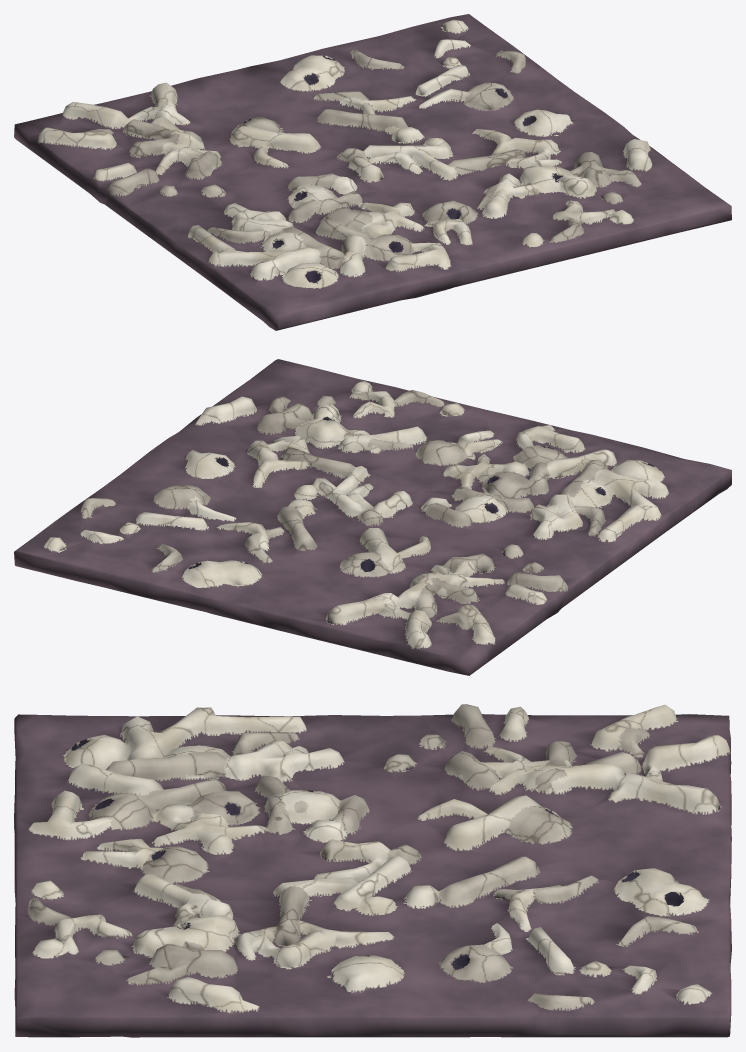
Rendered from suelo_hueso.fbx.
3 renders of one model, top to bottom at view 1: azimuth 30°, elevation 25°; view 2: azimuth 150°, elevation 25°; view 3: azimuth 270°, elevation 25°, orthographic. The views are drawn at different scales.
Visible parts, largest first — view 1: placa; view 2: placa; view 3: placa.
Boxes of the visible parts, x1,y1,x2,y2 form: placa: [14, 14, 731, 330]; placa: [14, 359, 731, 675]; placa: [14, 704, 731, 1037].
Bounding box in the file's own units: 7.99 × 0.5085 × 8.
1 material, 1 textured.
